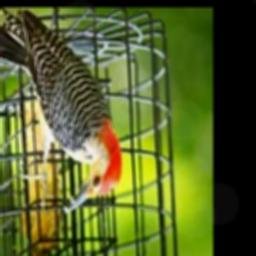Woodpecker: (0, 9, 122, 214)
